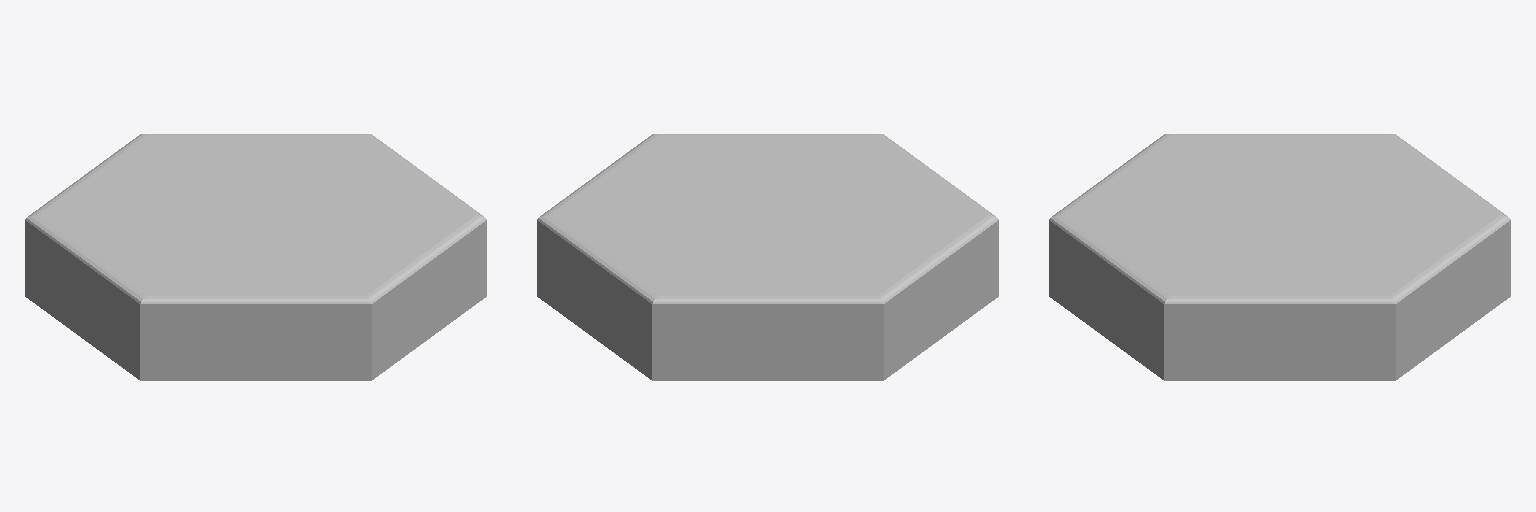
The model's file is HexMeshFilterObJ.obj.
3 views of the same model, side by side, from view 1: azimuth 30°, elevation 25°; view 2: azimuth 150°, elevation 25°; view 3: azimuth 270°, elevation 25° (orthographic).
Parts seen in each view (by area): view 1: Hex2; view 2: Hex2; view 3: Hex2.
Part boxes in pixels (left/top/right/bottom): Hex2: left=25, top=134, right=486, bottom=380; Hex2: left=537, top=134, right=998, bottom=380; Hex2: left=1049, top=134, right=1510, bottom=380.
Size of the model in its own units: 2 by 0.4437 by 2.31.